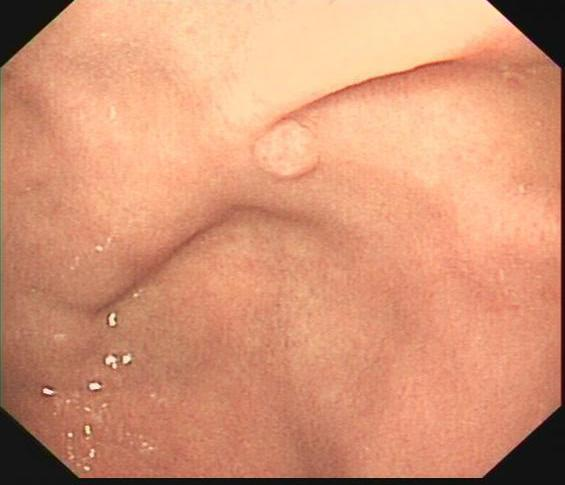Polyp: (244, 110, 334, 185)
